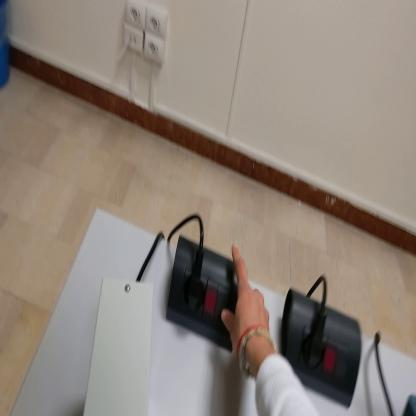hand: (221, 245, 272, 360)
oscilloscope: (402, 397, 416, 416)
power supply: (82, 265, 156, 414)
socket: (281, 285, 366, 411), (165, 236, 240, 356)
